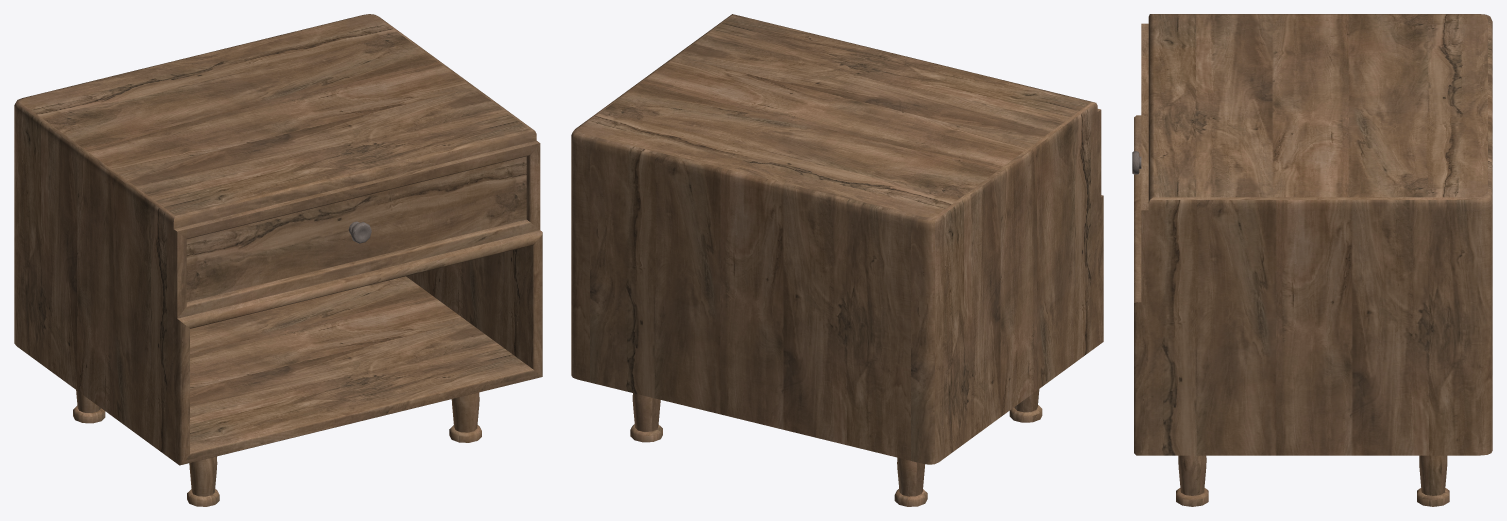
The model's file is BedShelf.FBX.
3 views of the same model, side by side, from view 1: azimuth 30°, elevation 25°; view 2: azimuth 150°, elevation 25°; view 3: azimuth 270°, elevation 25° (orthographic). The views are drawn at different scales.
Parts seen in each view (by area): view 1: Base, Shelf; view 2: Base; view 3: Base.
Part boxes in pixels (x1,y1,x2,y2): Base: (14,14,542,506); Shelf: (186,156,526,302); Base: (571,14,1103,506); Base: (1134,14,1492,506).
Bounding box in the file's own units: 354 × 288 × 289.
